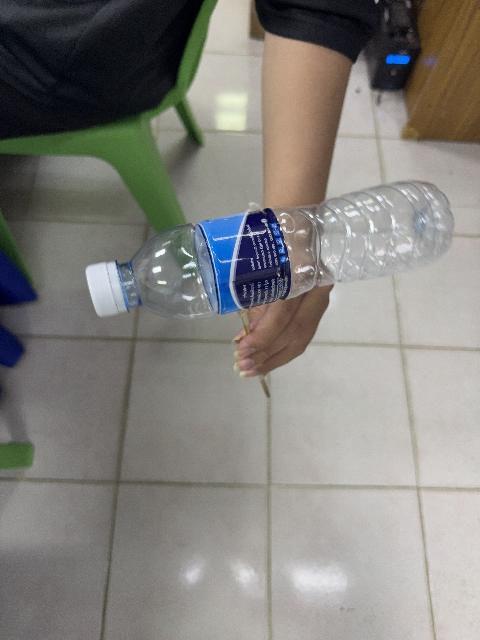bottle: (86, 182, 452, 318)
